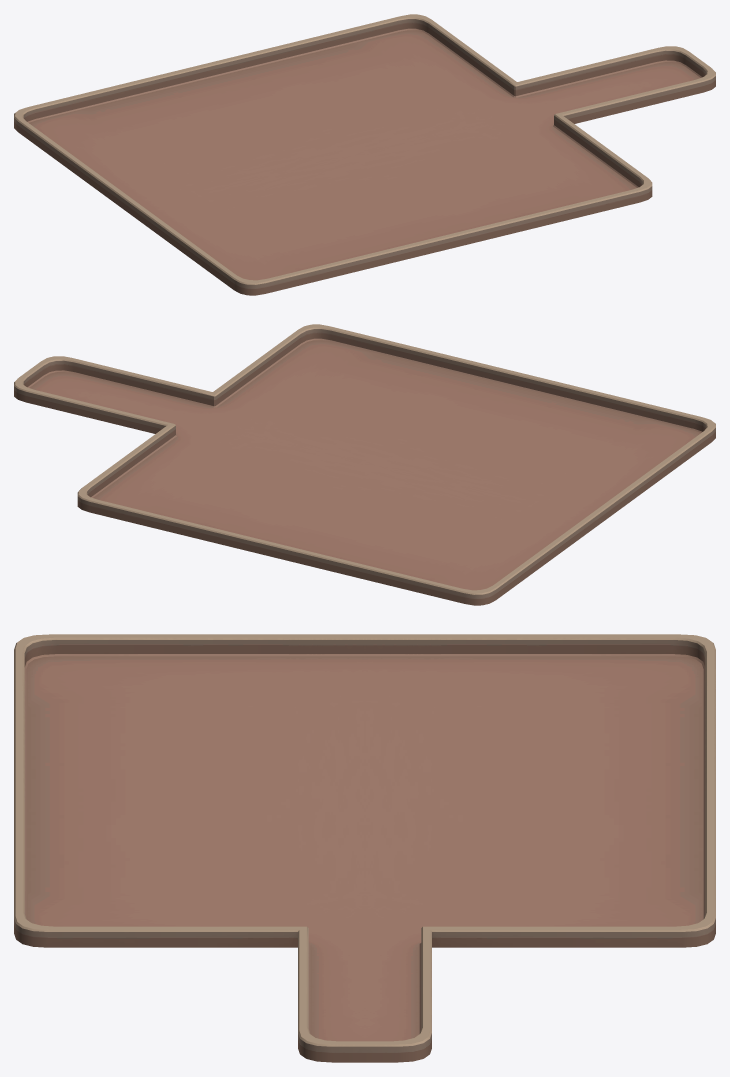
Rendered from ground60X60_tu.fbx.
3 views of the same model, one above another, from view 1: azimuth 30°, elevation 25°; view 2: azimuth 150°, elevation 25°; view 3: azimuth 270°, elevation 25° (orthographic). The views are drawn at different scales.
Parts seen in each view (by area): view 1: ground60X60_tu; view 2: ground60X60_tu; view 3: ground60X60_tu.
Boxes of the visible parts, x1,y1,x2,y2 form: ground60X60_tu: (14,14,715,295); ground60X60_tu: (14,324,715,605); ground60X60_tu: (14,634,715,1062).
Size of the model in its own units: 86.24 by 1.69 by 62.19.
Materials: 1 (1 with a texture image).
